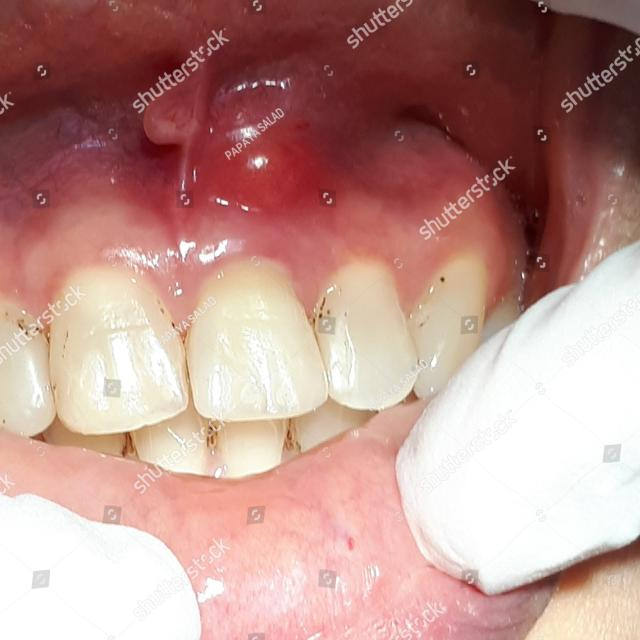abscess: (163, 63, 356, 211)
